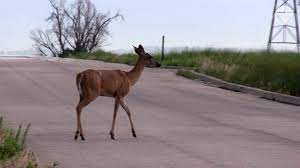deer: (71, 42, 163, 142)
